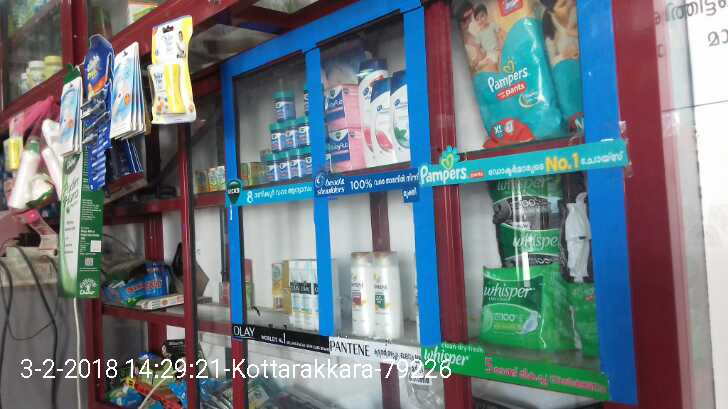vicks: (264, 78, 360, 182)
